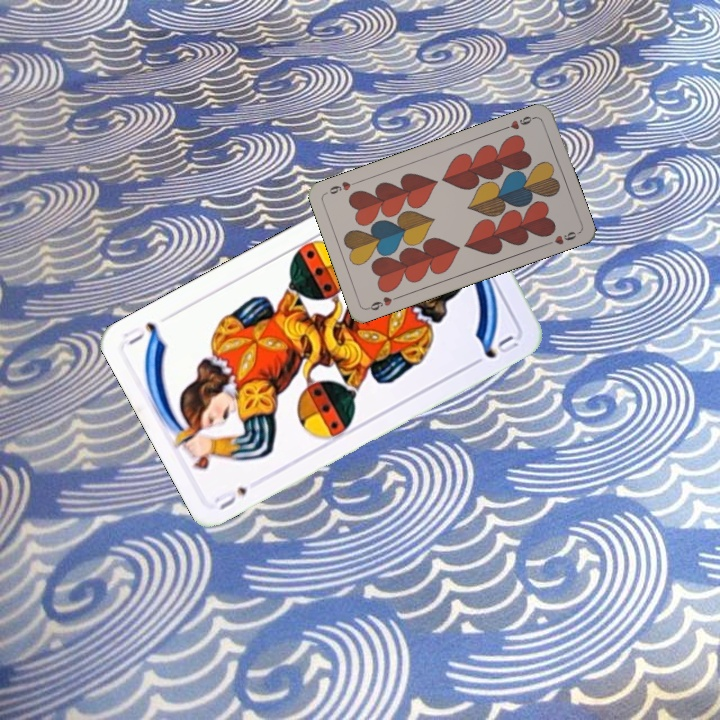H9: (364, 292, 403, 313), (499, 112, 539, 132)
SU: (215, 482, 250, 513)
